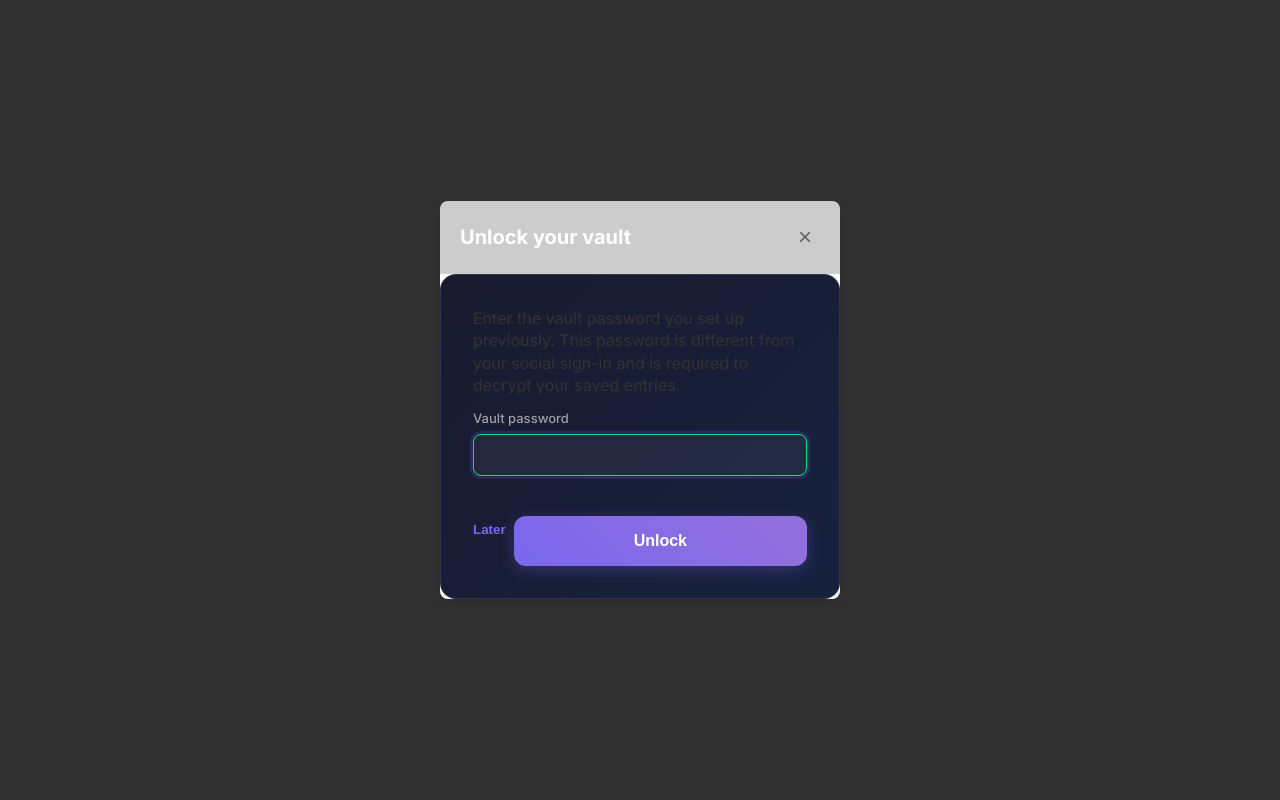
unlock mode — the session changes while open() is pending › a session superseded during open() propagates without falling back to the legacy path
Type "real-password" into the password field labelled "Vault password" at {"x": 640, "y": 455}, box x1=473 y1=434 x2=807 y2=476
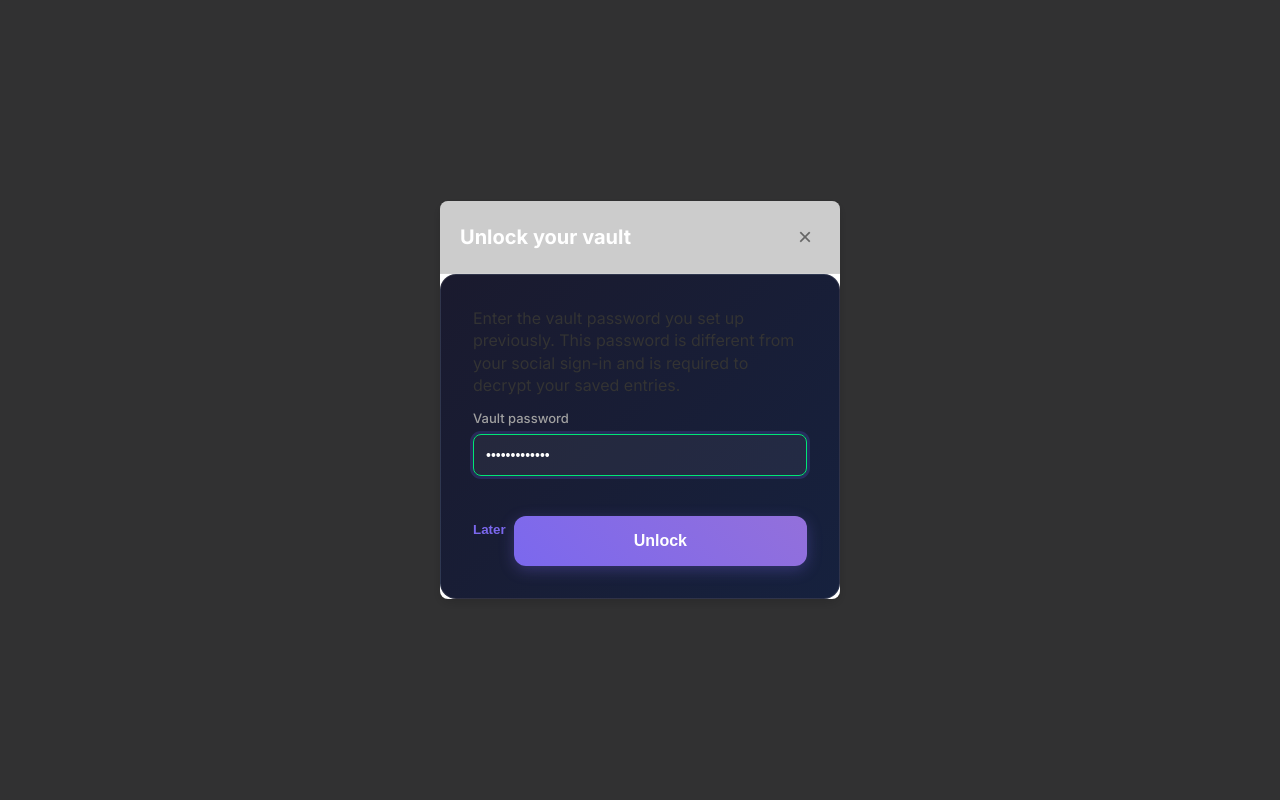
Click the button "Unlock" at {"x": 660, "y": 541}, box x1=514 y1=516 x2=807 y2=566
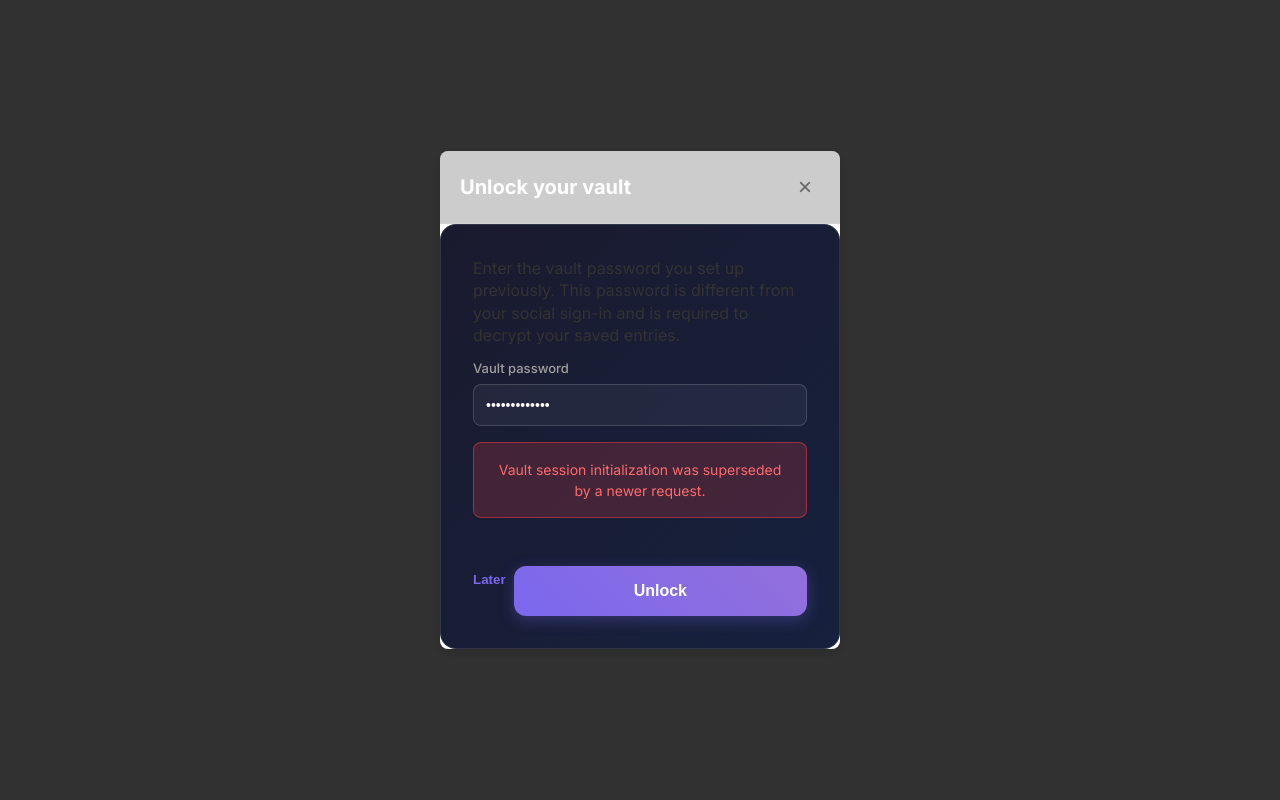
expect the message shows "superseded by a newer request": met, box x1=499 y1=461 x2=781 y2=499
